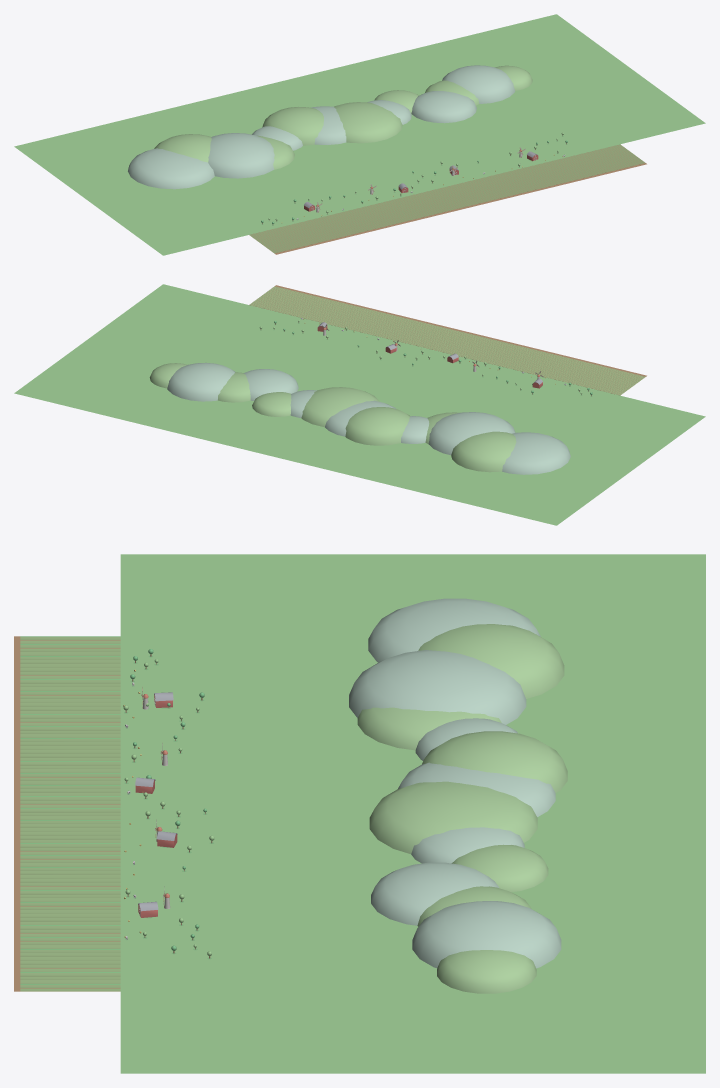
Rendered from garden-far.glb.
3 views of the same model, one above another, from view 1: azimuth 30°, elevation 25°; view 2: azimuth 150°, elevation 25°; view 3: azimuth 270°, elevation 25° (orthographic). The views are drawn at different scales.
Visible parts, largest first — view 1: garden-far; view 2: garden-far; view 3: garden-far.
Part boxes in pixels (x1,y1,x2,y2): garden-far: (14,14,705,255); garden-far: (14,284,705,525); garden-far: (14,554,705,1073).
Bounding box in the file's own units: 1900 × 57.34 × 1070.
